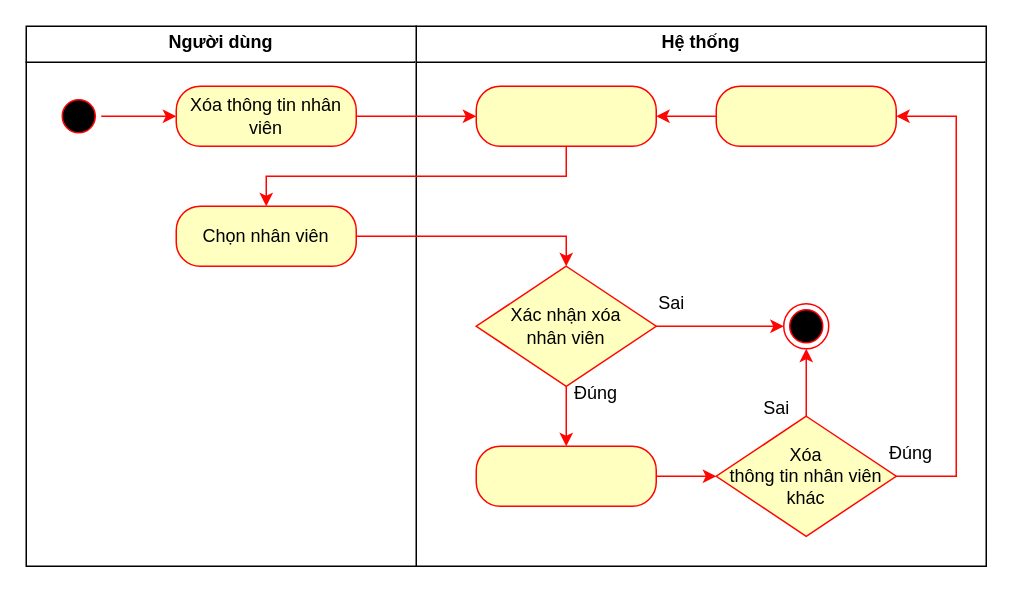
The diagram is 1013 pixels wide and 593 high, and some of its shapes have lost their labels. The shapes that lost their labels are listed below. From the top down, each one's centre as x and y in pixels, then its label:
the point at 565,115: Hiển thị danh sách nhân viên
the point at 805,115: Cập nhật danh sách nhân viên
the point at 565,475: Xóa thông tin nhân viên khỏi CSDL
